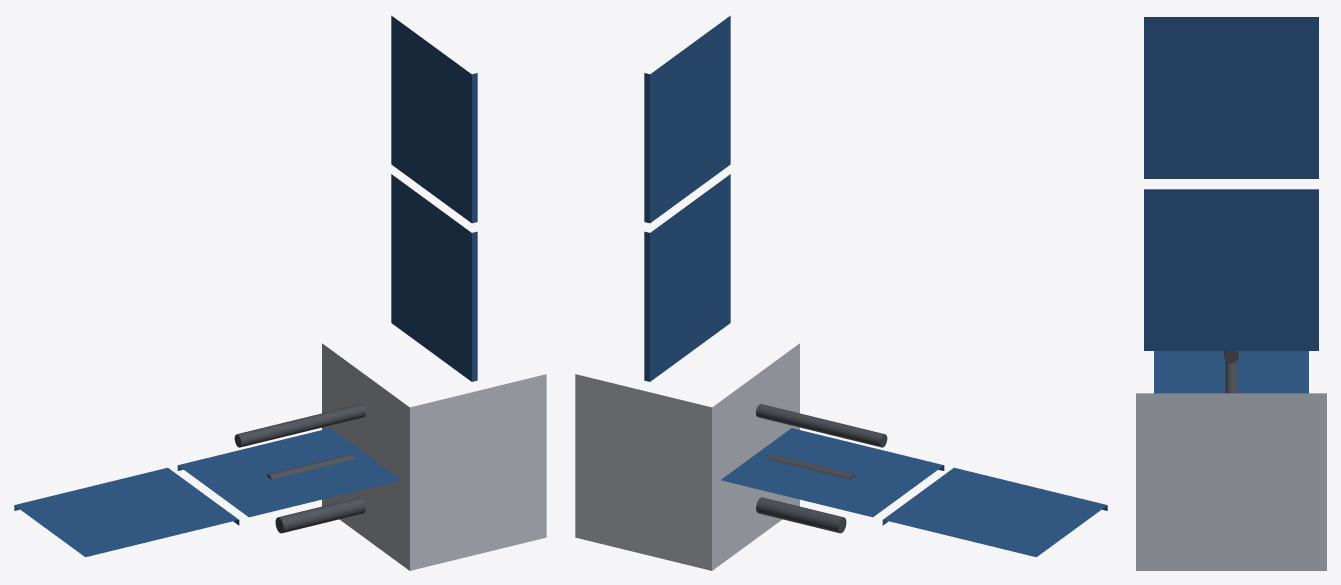
3 renders of one model, left to right at view 1: azimuth 30°, elevation 25°; view 2: azimuth 150°, elevation 25°; view 3: azimuth 270°, elevation 25°, orthographic. The views are drawn at different scales.
Size of the model in its own units: 8.02 by 8.08 by 2.69.
